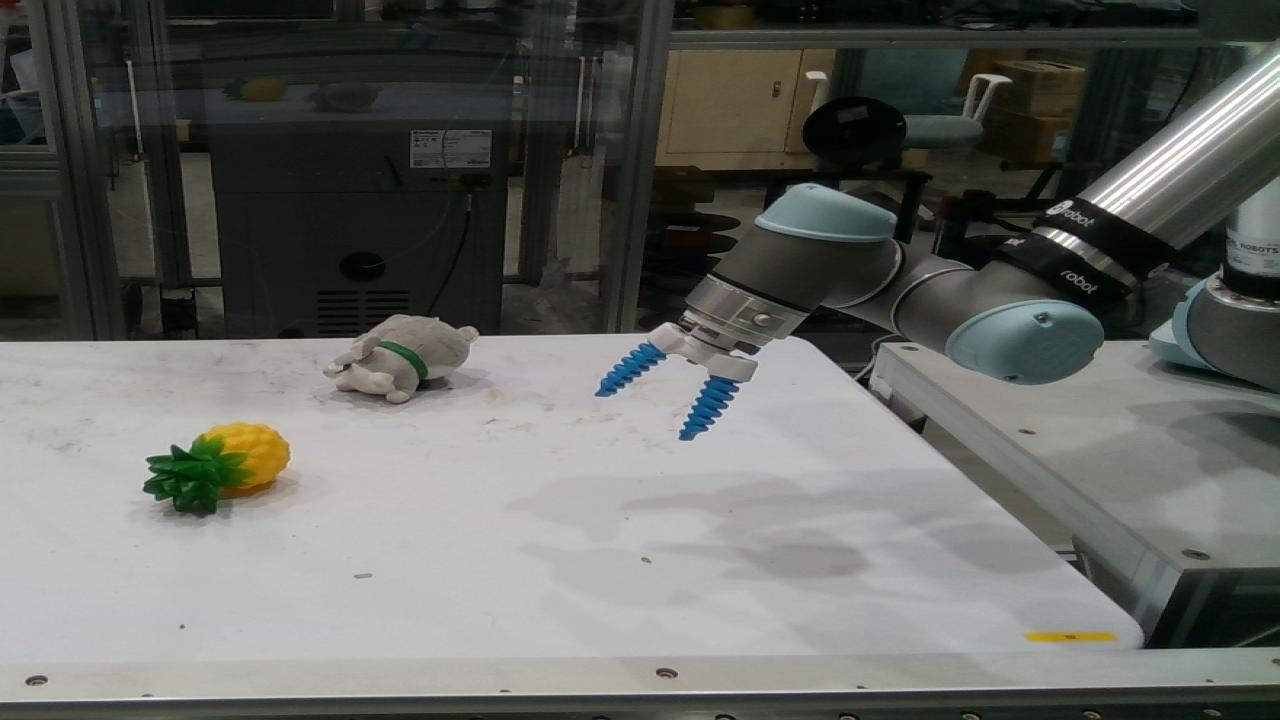UR5: (656, 170, 1278, 386)
gripper_left: (595, 343, 665, 396)
gripper_right: (684, 378, 736, 440)
target: (324, 316, 476, 404), (146, 424, 286, 514)
